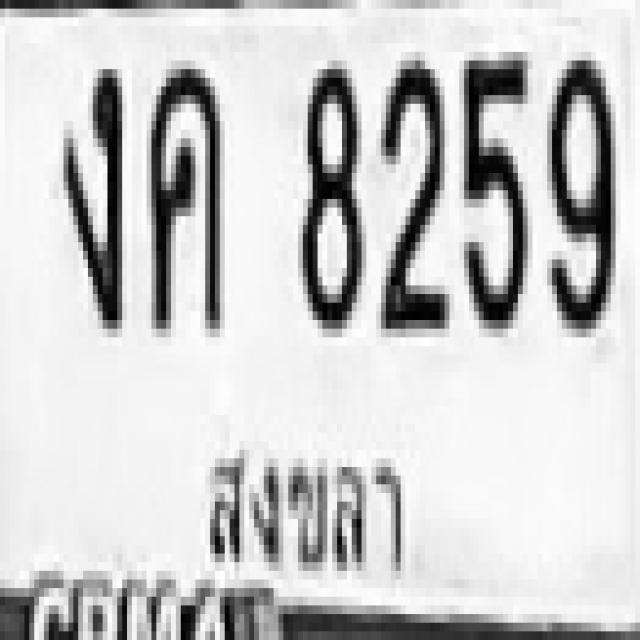13KhorKhwai: (144, 60, 222, 328)
16NgorNgu: (59, 65, 117, 324)
2: (376, 52, 445, 329)
5: (459, 48, 523, 324)
8: (298, 56, 357, 324)
9: (542, 52, 611, 329)
Songkhla: (195, 423, 421, 596)
